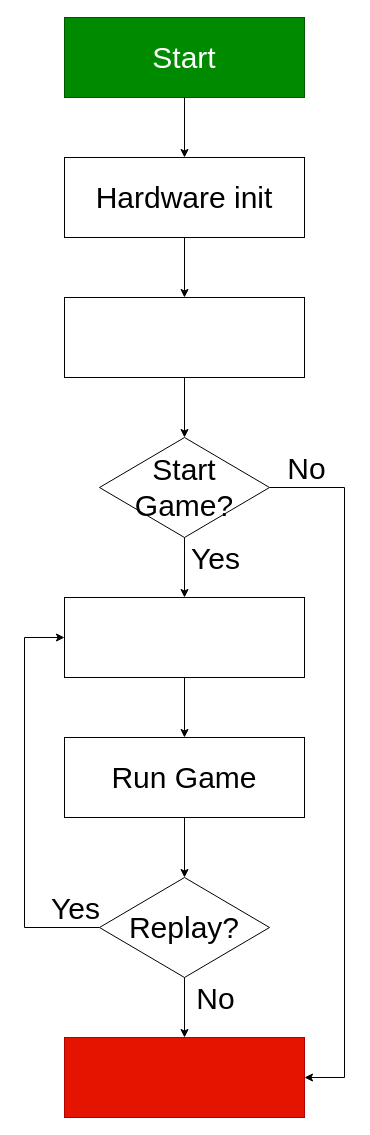
This 370x1135 diagram has some shape labels left out. The shapes that lost their labels are listed below. From the top down, each one's centre as x and y in pixels, then its label:
At point (184, 337): "Greet".
At point (184, 637): "Choose Difficulty".
At point (184, 1077): "End".
